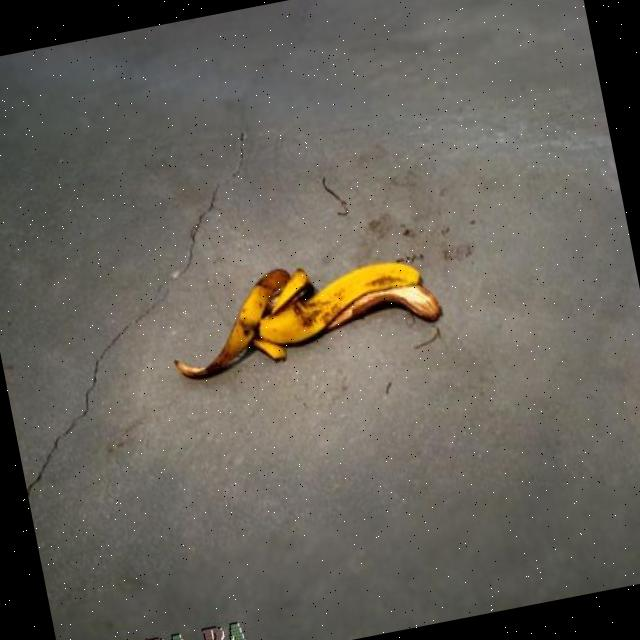banana-peel: (159, 237, 446, 385)
